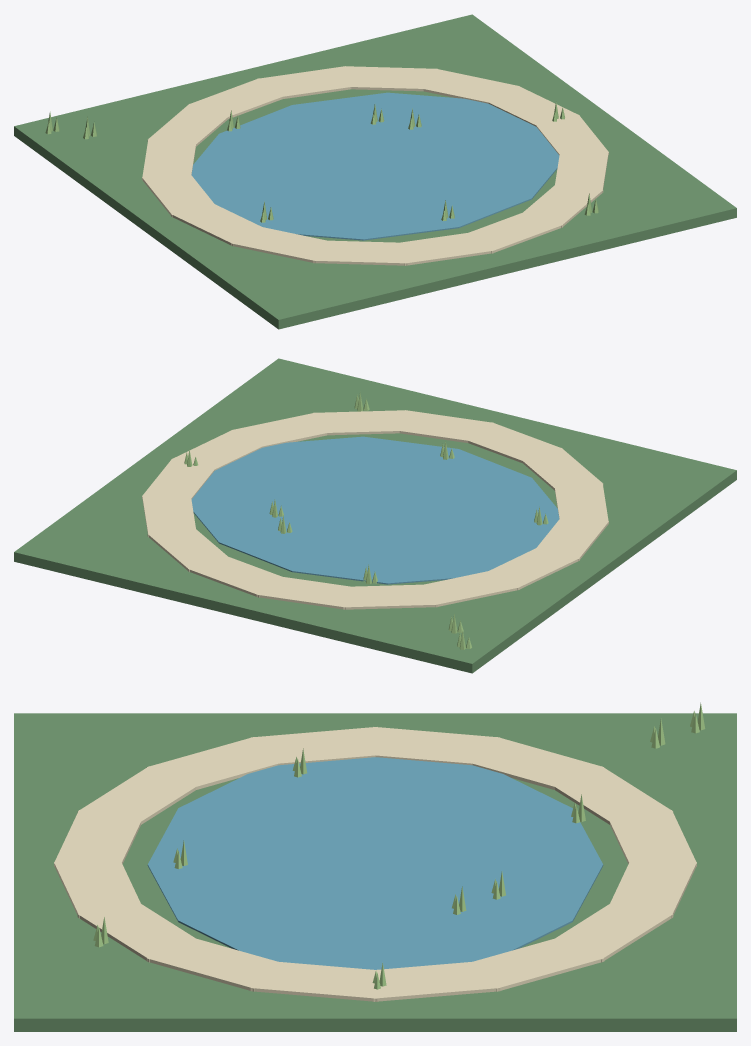
The model's file is golf-course-and-clubhouse-water-hazard-pond-59f74493__33470.glb.
3 views of the same model, one above another, from view 1: azimuth 30°, elevation 25°; view 2: azimuth 150°, elevation 25°; view 3: azimuth 270°, elevation 25° (orthographic). The views are drawn at different scales.
Visible parts, largest first — view 1: water-hazard-pond; view 2: water-hazard-pond; view 3: water-hazard-pond.
Part boxes in pixels (x1=…): water-hazard-pond: x1=14, y1=14, x2=736, y2=329; water-hazard-pond: x1=14, y1=358, x2=736, y2=673; water-hazard-pond: x1=14, y1=702, x2=736, y2=1031.
Size of the model in its own units: 6 by 0.3619 by 6.
